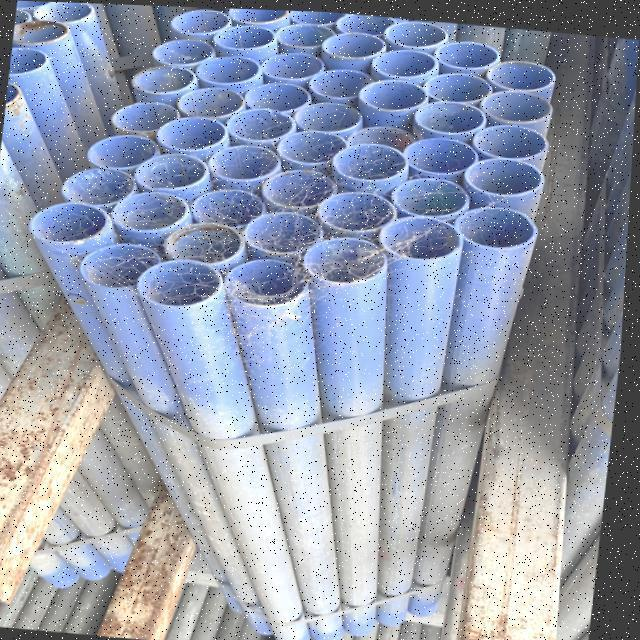pipe: (444, 193, 548, 265), (462, 150, 546, 208), (137, 257, 229, 307), (300, 230, 386, 282), (86, 243, 170, 292), (382, 213, 464, 260), (245, 214, 327, 261), (315, 189, 395, 236), (113, 189, 188, 237), (60, 166, 147, 207), (35, 200, 112, 245), (164, 220, 243, 263), (336, 138, 411, 183), (229, 257, 300, 304), (402, 135, 480, 177), (262, 171, 341, 212), (391, 175, 468, 217), (192, 192, 268, 234), (470, 120, 549, 159), (88, 138, 171, 174), (134, 151, 208, 190), (281, 133, 354, 170), (307, 71, 386, 105), (155, 114, 227, 151), (209, 149, 279, 187), (226, 109, 296, 147), (317, 33, 404, 63), (360, 80, 430, 117), (412, 98, 485, 133), (110, 103, 186, 136), (422, 69, 494, 103), (175, 83, 247, 116), (479, 88, 550, 121), (485, 57, 553, 89), (439, 42, 504, 75), (196, 52, 259, 85), (245, 84, 311, 115), (372, 51, 437, 82), (133, 65, 196, 96), (211, 21, 275, 51), (297, 105, 365, 133), (155, 38, 219, 67), (265, 53, 326, 82), (13, 18, 73, 46), (351, 127, 416, 152), (169, 11, 229, 38), (388, 23, 449, 48), (330, 11, 393, 35), (31, 2, 94, 26), (279, 24, 337, 49), (226, 7, 292, 27), (10, 48, 54, 74), (290, 9, 340, 24), (6, 82, 26, 109), (16, 0, 55, 5)
